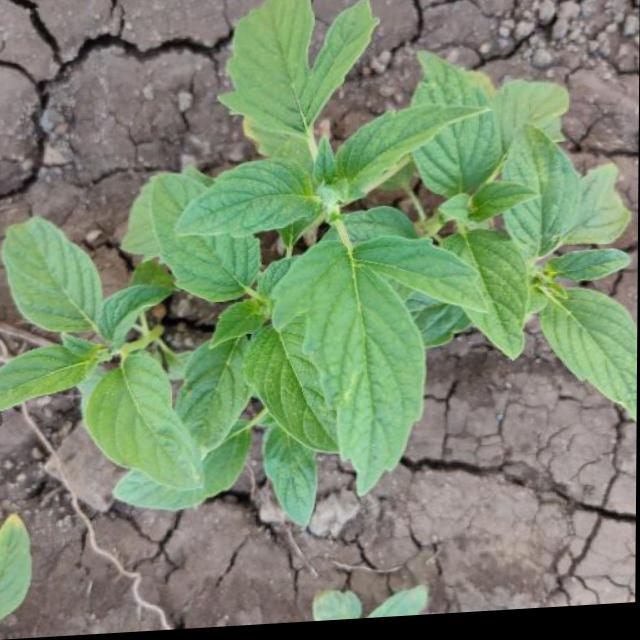crop: (0, 0, 640, 559)
